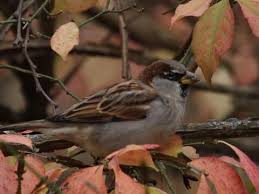hsparrow: (32, 54, 203, 159)
